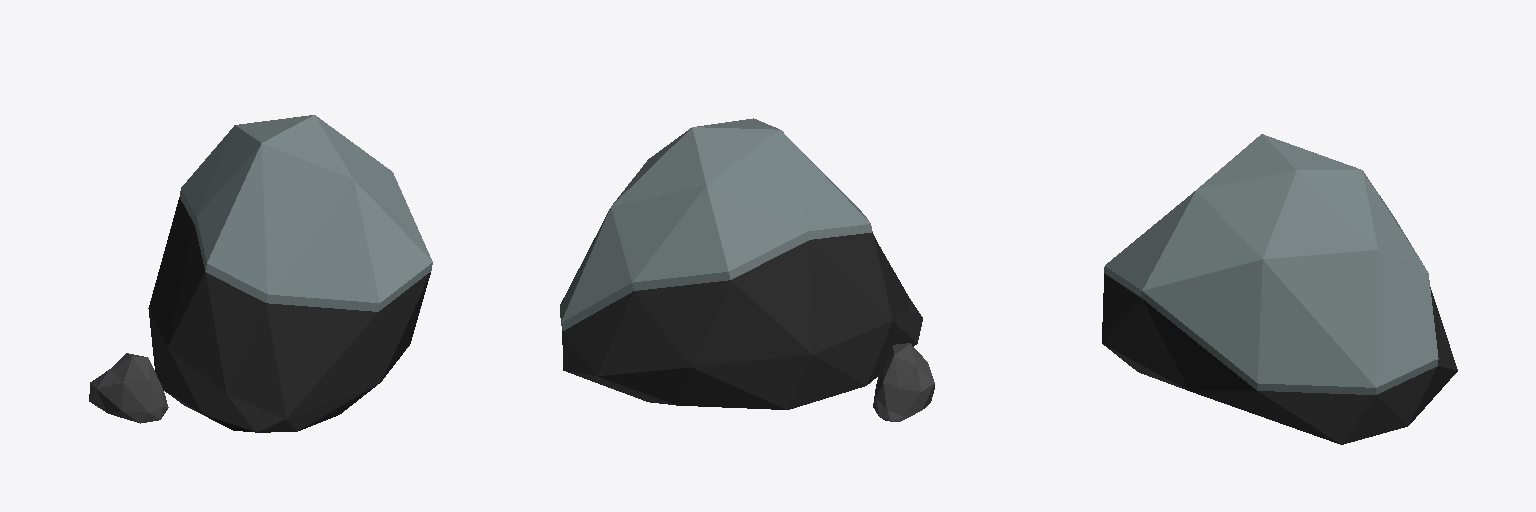
The model's file is Roca_grande_nieve.obj.
The picture shows the model from 3 angles: view 1: azimuth 30°, elevation 25°; view 2: azimuth 150°, elevation 25°; view 3: azimuth 270°, elevation 25°; orthographic projection.
Visible parts, largest first — view 1: Object011; view 2: Object011; view 3: Object011.
Part boxes in pixels (x1,y1,x2,y2): Object011: (89, 115, 432, 432); Object011: (560, 118, 934, 421); Object011: (1102, 134, 1457, 444).
Bounding box in the file's own units: 22.89 × 16.15 × 21.66.